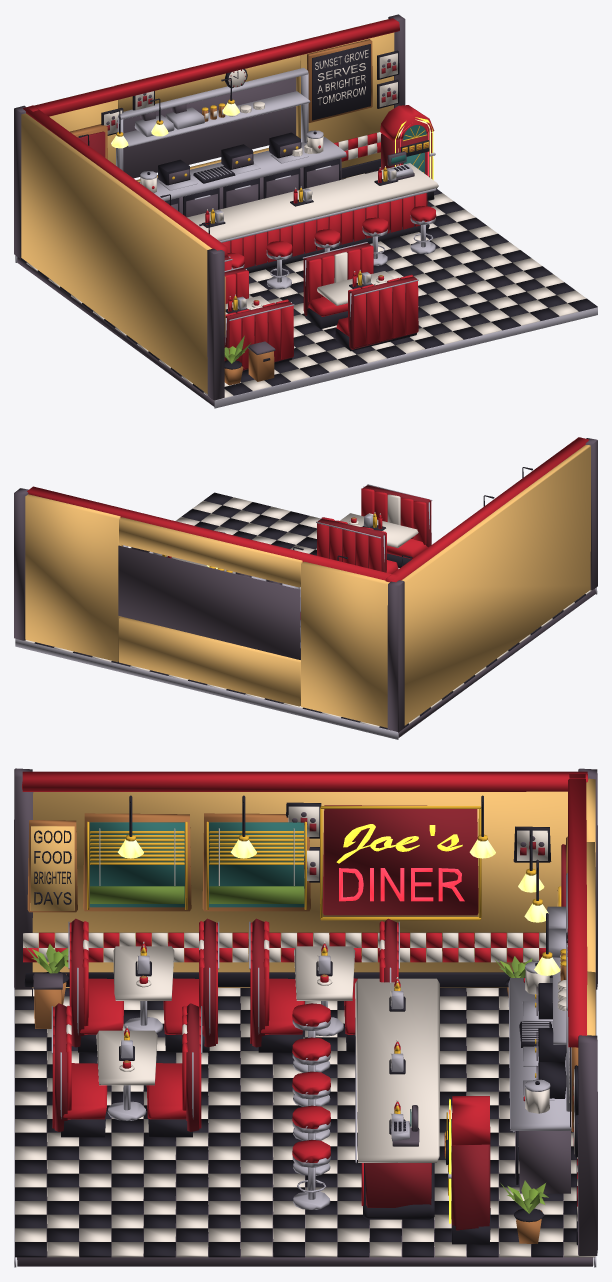
The picture shows the model from 3 angles, top to bottom: view 1: azimuth 30°, elevation 25°; view 2: azimuth 150°, elevation 25°; view 3: azimuth 270°, elevation 25°; orthographic projection. The views are drawn at different scales.
Parts seen in each view (by area): view 1: interior, object 3; view 2: interior; view 3: interior, object 3.
Boxes of the visible parts, left/top/right/bottom form: interior: left=14, top=14, right=597, bottom=408; object 3: left=78, top=78, right=239, bottom=233; interior: left=14, top=437, right=597, bottom=739; interior: left=14, top=768, right=597, bottom=1267; object 3: left=117, top=795, right=560, bottom=975.
Size of the model in its own units: 10.06 by 3.88 by 9.05.
